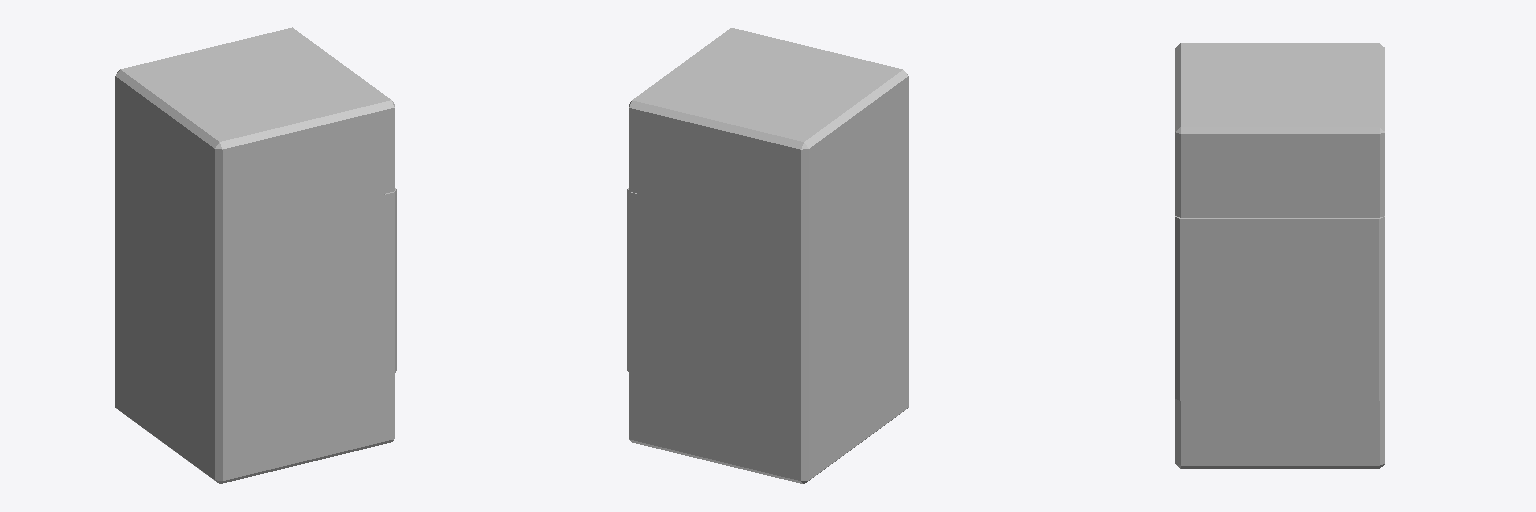
The picture shows the model from 3 angles: view 1: azimuth 30°, elevation 25°; view 2: azimuth 150°, elevation 25°; view 3: azimuth 270°, elevation 25°; orthographic projection.
Parts seen in each view (by area): view 1: rdmobj00, rdmobj01; view 2: rdmobj00, rdmobj01; view 3: rdmobj00, rdmobj01.
Part boxes in pixels (bbox=[...]): rdmobj00: bbox=[115, 27, 394, 483]; rdmobj01: bbox=[384, 188, 396, 376]; rdmobj00: bbox=[629, 28, 908, 483]; rdmobj01: bbox=[627, 188, 638, 375]; rdmobj00: bbox=[1175, 43, 1384, 468]; rdmobj01: bbox=[1175, 216, 1384, 400].
Bounding box in the file's own units: 1.44 × 2.58 × 1.44.